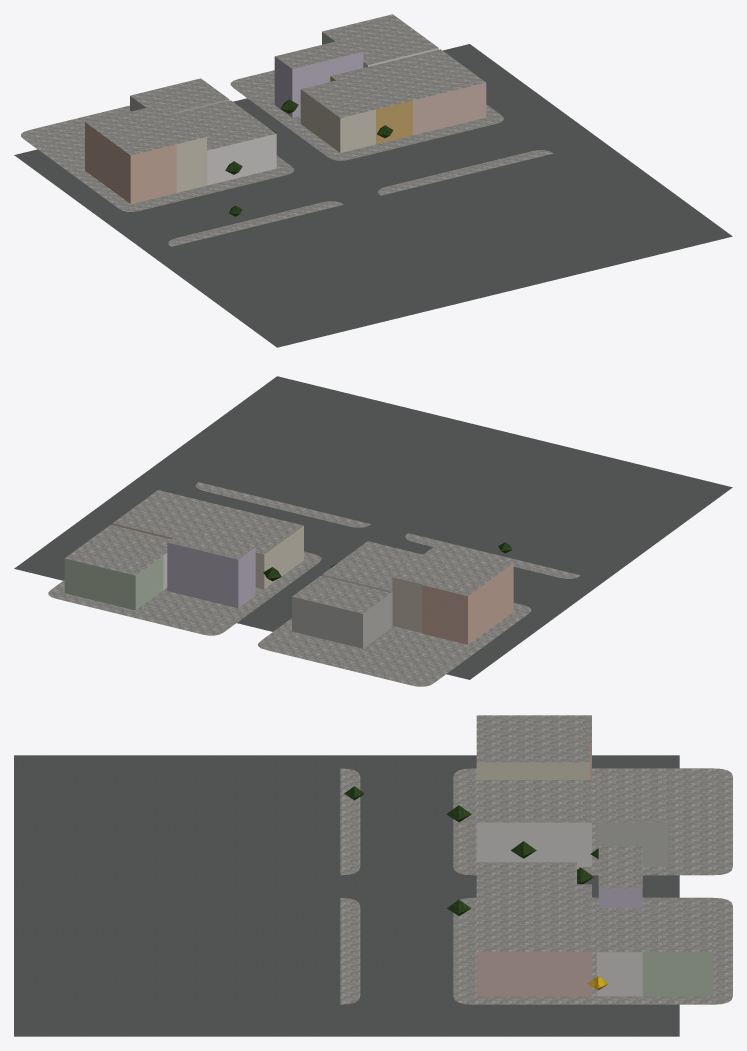
Rendered from cidade_S03_05_lod.gltf.
3 views of the same model, one above another, from view 1: azimuth 30°, elevation 25°; view 2: azimuth 150°, elevation 25°; view 3: azimuth 270°, elevation 25° (orthographic). The views are drawn at different scales.
Parts seen in each view (by area): view 1: S03_05_Chao_LOD2, S03_05_Edificios_LOD1, S03_05_Vegetacao_LOD2; view 2: S03_05_Chao_LOD2, S03_05_Edificios_LOD1; view 3: S03_05_Chao_LOD2, S03_05_Edificios_LOD1, S03_05_Vegetacao_LOD2.
Part boxes in pixels (box(x1,y1,x2,y2)): S03_05_Chao_LOD2: box(14, 44, 732, 347); S03_05_Edificios_LOD1: box(85, 14, 486, 203); S03_05_Vegetacao_LOD2: box(225, 99, 393, 216); S03_05_Chao_LOD2: box(14, 376, 732, 686); S03_05_Edificios_LOD1: box(64, 490, 513, 648); S03_05_Chao_LOD2: box(14, 755, 732, 1036); S03_05_Edificios_LOD1: box(476, 715, 712, 996); S03_05_Vegetacao_LOD2: box(344, 786, 608, 990).
Size of the model in its own units: 100 by 10.37 by 108.
Materials: 12 (12 with a texture image).
